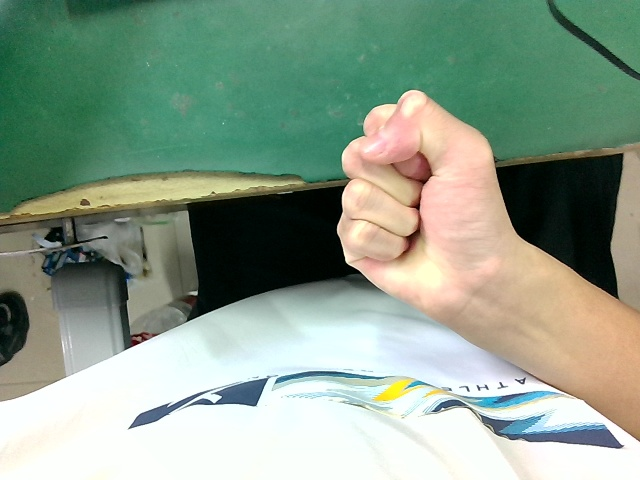stone: (336, 82, 529, 327)
